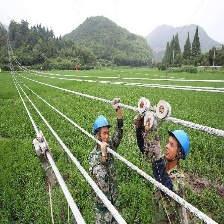helmet: (170, 128, 191, 160), (92, 116, 112, 138)
person: (152, 122, 193, 224), (86, 113, 123, 224)
